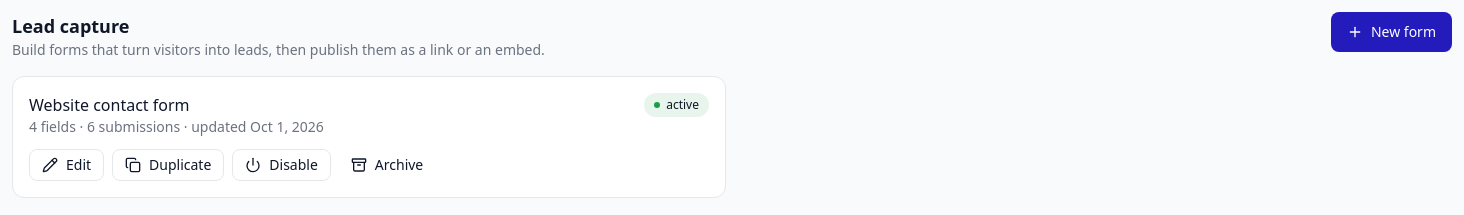
it: lead capture settings › disables and archives a form from the list
Click the button "Disable" at {"x": 282, "y": 165}, box 232,149 -> 331,181
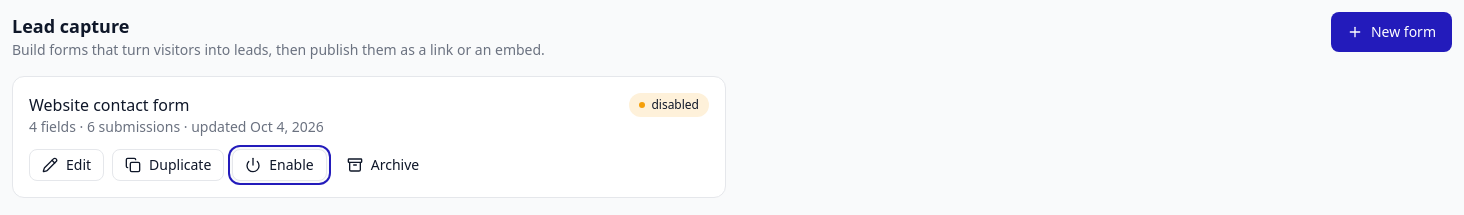
Now the element showing "disabled" is shown, box 629,93 -> 709,117
Click the button "Archive" at {"x": 383, "y": 165}, box 335,149 -> 431,181
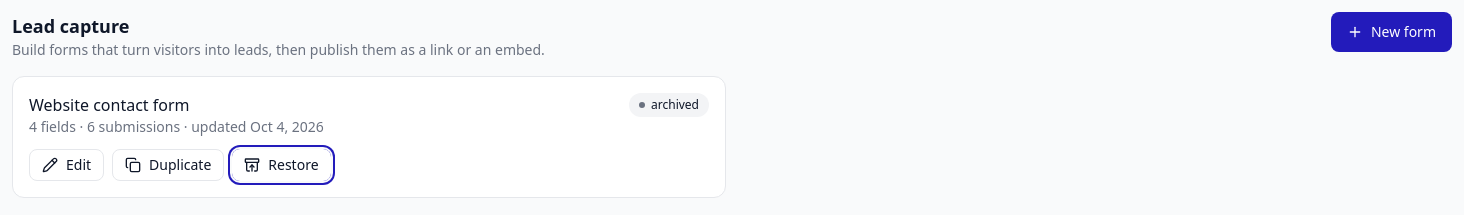
Now the element showing "archived" is shown, box 629,93 -> 709,117
